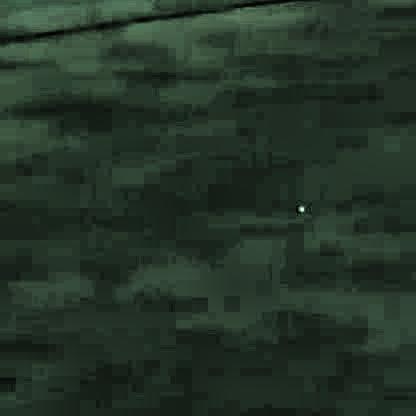golfball: (295, 204, 305, 211)
